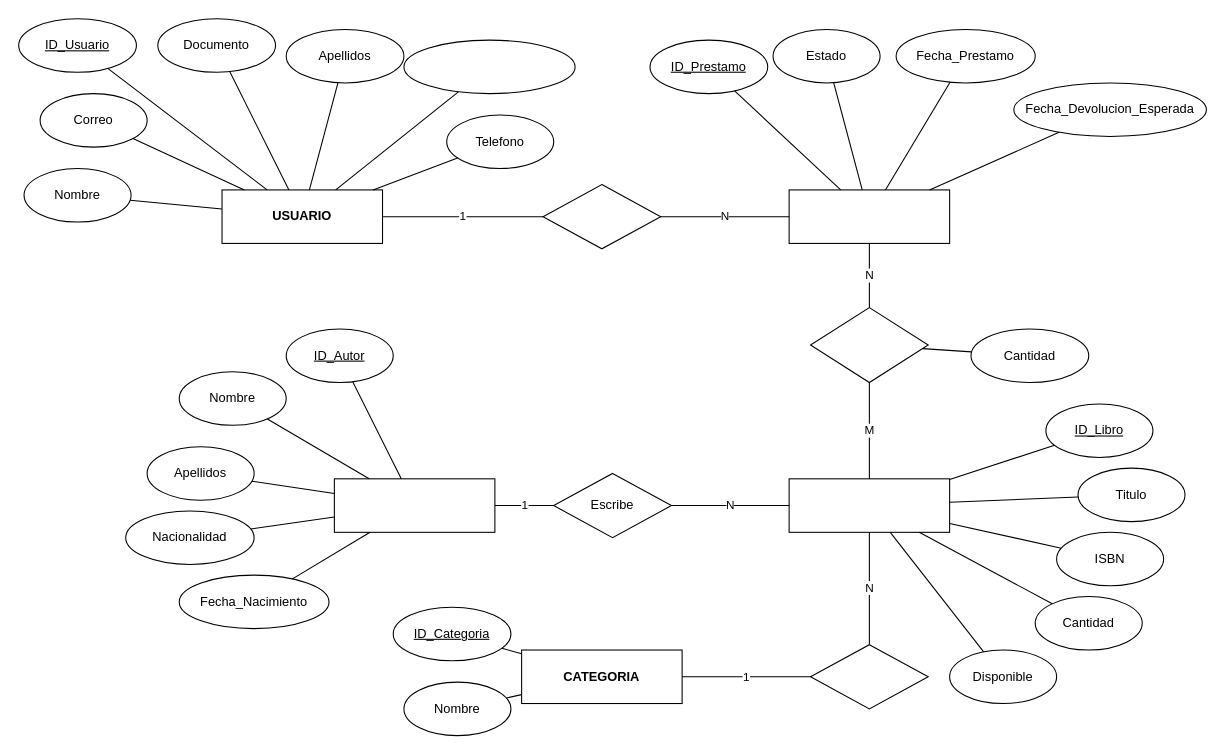
Image size: 1225x754. Some labels were removed from this diagram. The shapes that lost their labels are listed below. From the top down, each one's centre as x and y in pixels, then its label:
(489,66): Programa_Academico
(601,216): Realiza
(869,216): PRESTAMO
(868,345): Contiene
(414,505): AUTOR
(869,505): LIBRO
(868,676): Clasifica
